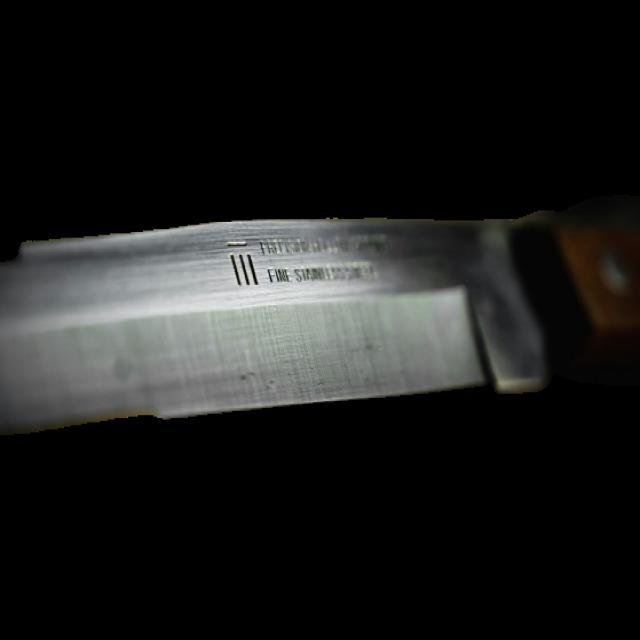knife: (0, 196, 639, 447)
